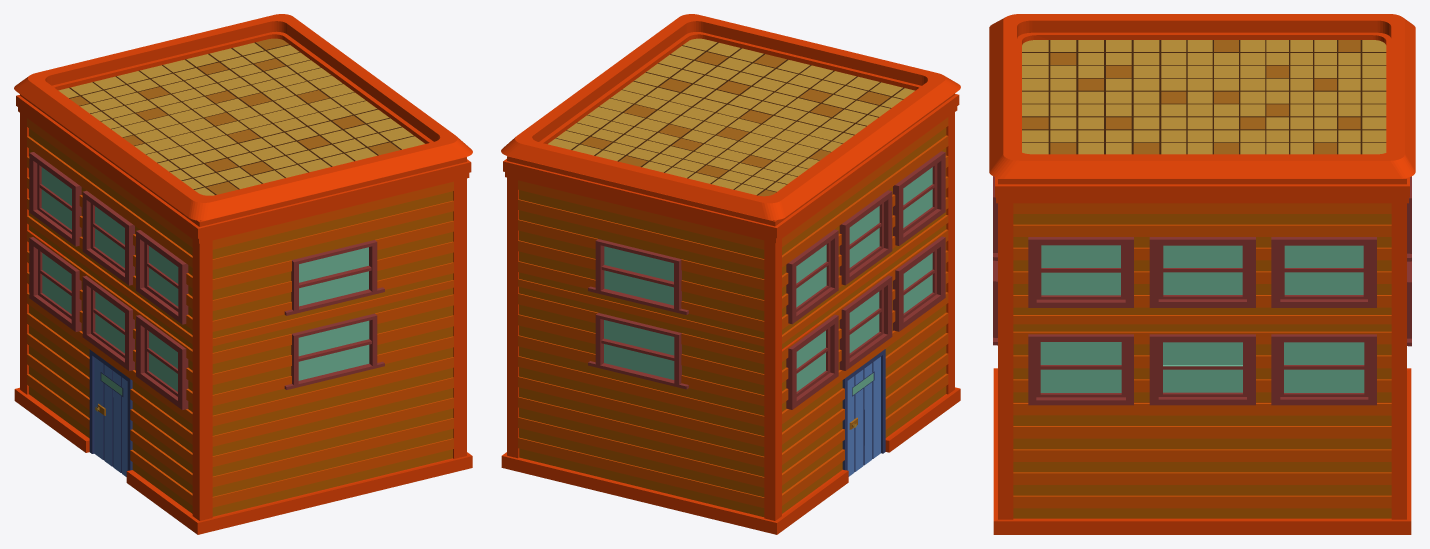
File: BuildingStraight2.fbx
The picture shows the model from 3 angles, left to right: view 1: azimuth 30°, elevation 25°; view 2: azimuth 150°, elevation 25°; view 3: azimuth 270°, elevation 25°; orthographic projection. The views are drawn at different scales.
Visible parts, largest first — view 1: Cube.002; view 2: Cube.002; view 3: Cube.002.
Boxes of the visible parts, left/top/right/bottom form: Cube.002: left=14, top=14, right=472, bottom=534; Cube.002: left=501, top=14, right=960, bottom=534; Cube.002: left=989, top=14, right=1415, bottom=534.
Bounding box in the file's own units: 465 × 512 × 534.
